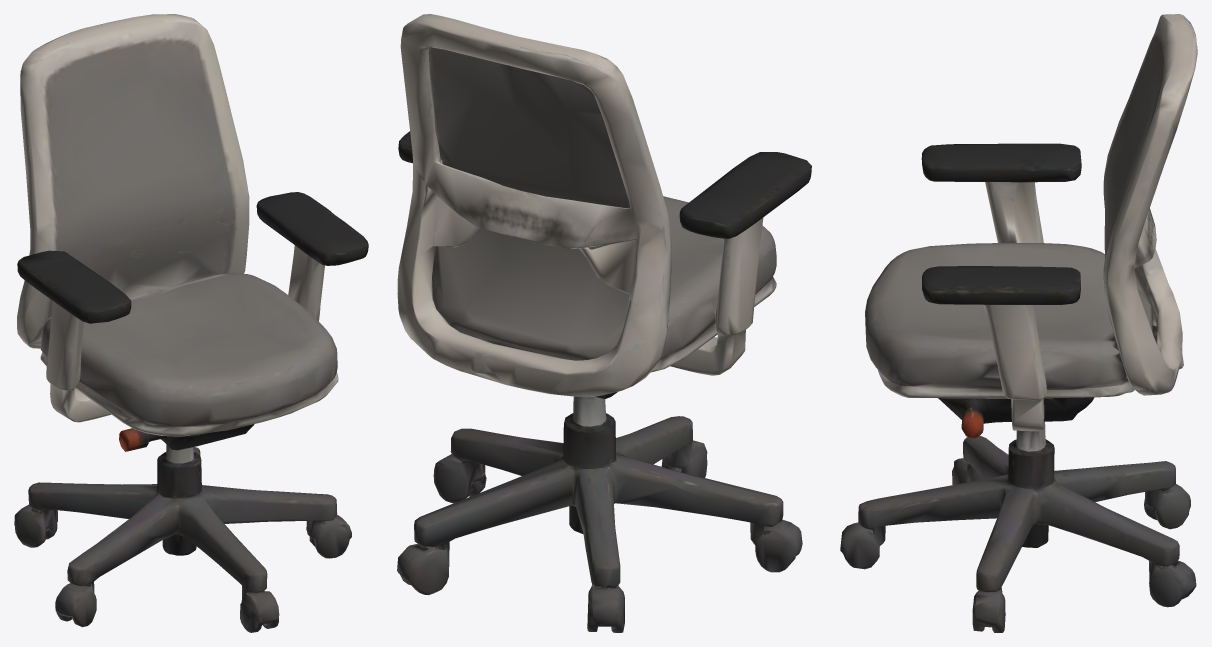
The model's file is office_chair.glb.
The picture shows the model from 3 angles, left to right: view 1: azimuth 30°, elevation 25°; view 2: azimuth 150°, elevation 25°; view 3: azimuth 270°, elevation 25°; orthographic projection. The views are drawn at different scales.
Visible parts, largest first — view 1: geometry_0; view 2: geometry_0; view 3: geometry_0.
Part boxes in pixels (x1,y1,x2,y2): geometry_0: [14, 14, 368, 632]; geometry_0: [397, 14, 811, 632]; geometry_0: [840, 14, 1197, 632].
Size of the model in its own units: 0.6415 by 1 by 0.6294.
1 material, 1 textured.
